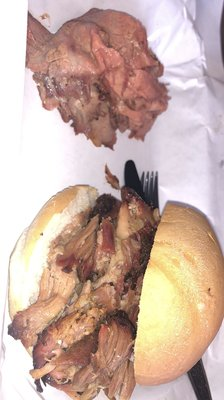soup: (7, 182, 162, 400)
